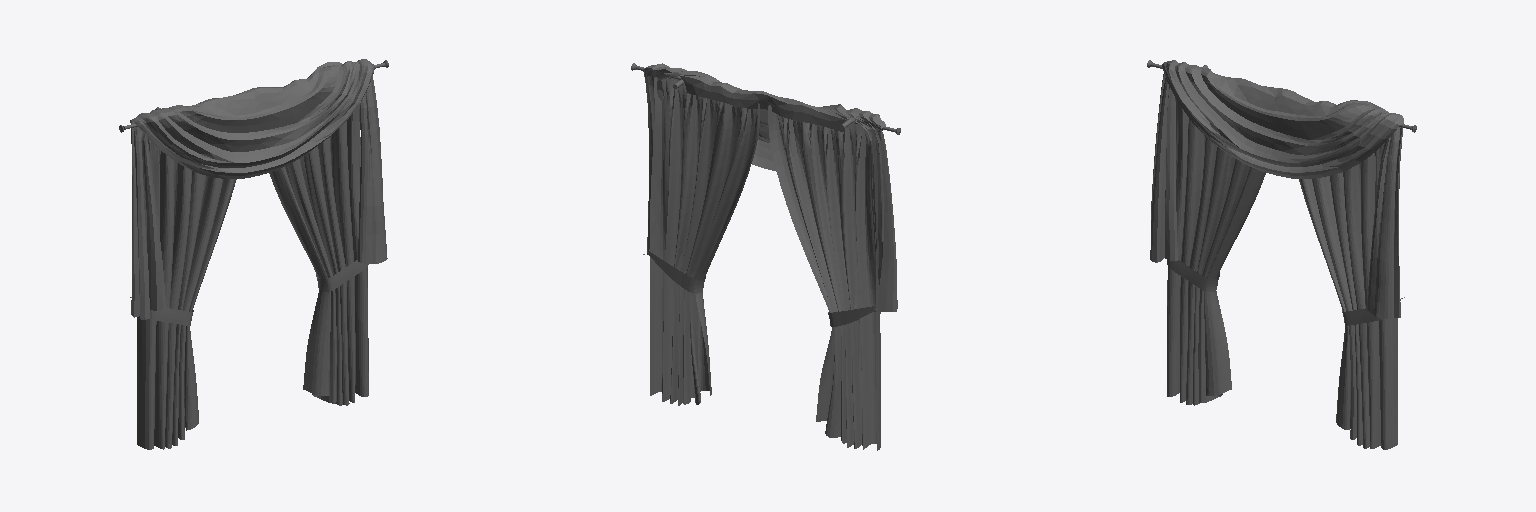
Rendered from curtain02.obj.
3 views of the same model, side by side, from view 1: azimuth 30°, elevation 25°; view 2: azimuth 150°, elevation 25°; view 3: azimuth 330°, elevation 25° (orthographic).
Parts seen in each view (by area): view 1: Arch60_056_obj24, Arch60_056_obj34, Arch60_056_obj38, Arch60_056_obj36, Arch60_056_obj35; view 2: Arch60_056_obj34, Arch60_056_obj38, Arch60_056_obj24, Arch60_056_obj36, Arch60_056_obj35; view 3: Arch60_056_obj24, Arch60_056_obj38, Arch60_056_obj34, Arch60_056_obj35.
Part boxes in pixels (x1,y1,x2,y2): Arch60_056_obj24: (130,59,387,319); Arch60_056_obj34: (269,104,368,405); Arch60_056_obj38: (137,139,236,449); Arch60_056_obj36: (316,260,368,291); Arch60_056_obj35: (150,308,193,325); Arch60_056_obj34: (650,77,760,405); Arch60_056_obj38: (768,105,880,450); Arch60_056_obj24: (643,63,897,311); Arch60_056_obj36: (648,249,705,293); Arch60_056_obj35: (828,304,880,326); Arch60_056_obj24: (1150,60,1403,318); Arch60_056_obj38: (1167,98,1265,405); Arch60_056_obj34: (1299,143,1397,449); Arch60_056_obj35: (1167,260,1219,291).
Bounding box in the file's own units: 256 × 307 × 40.4.